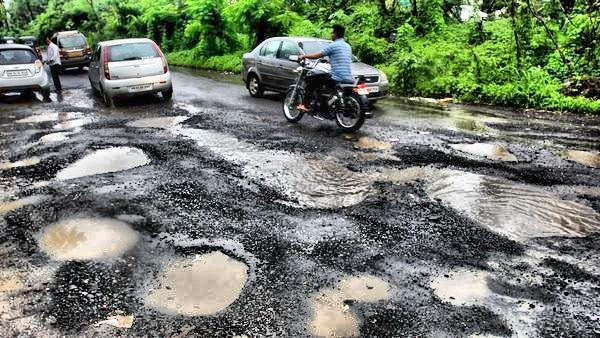pothole: (144, 242, 257, 324), (301, 268, 392, 338), (37, 212, 138, 263), (52, 141, 151, 183), (448, 138, 520, 164)
